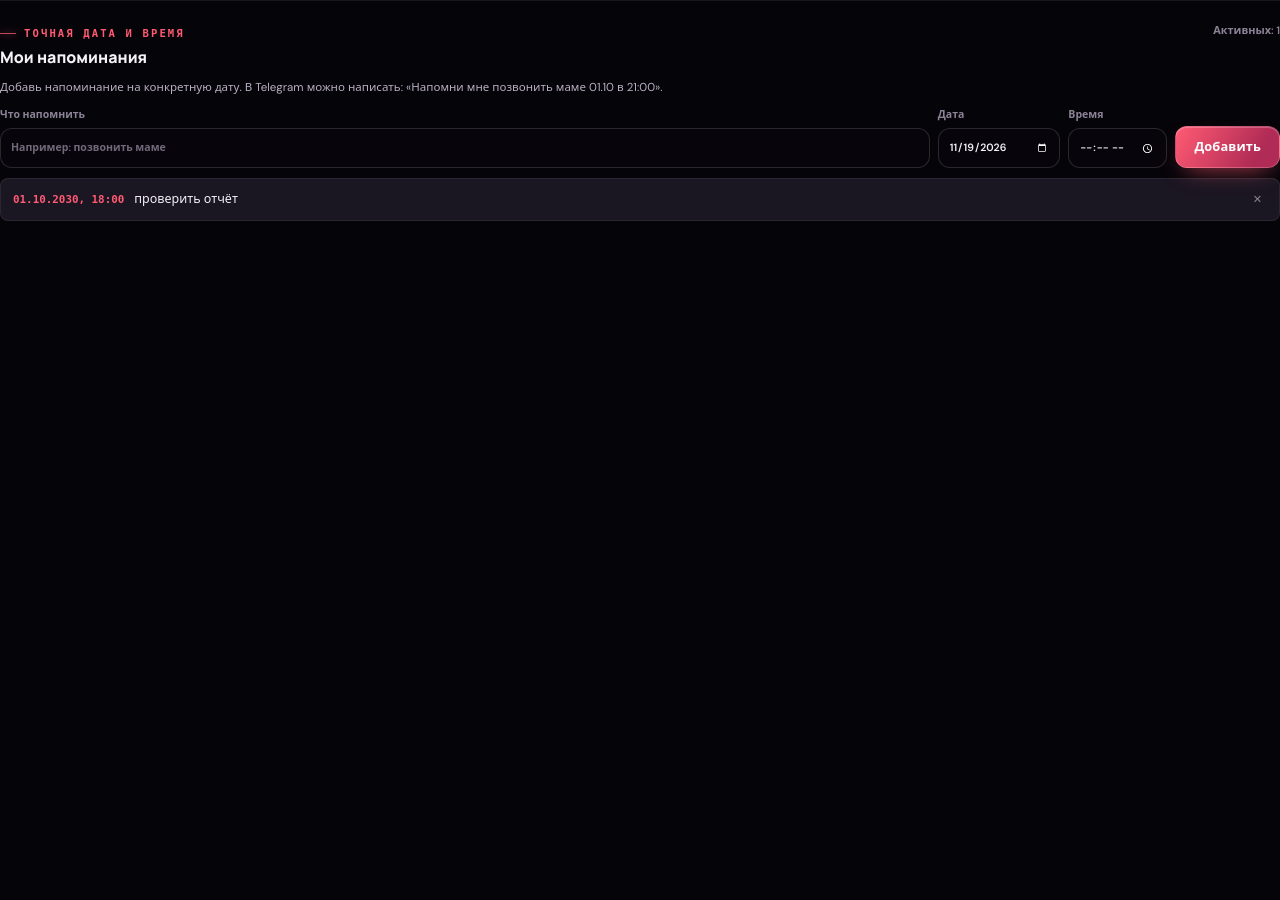
Test: RemindersPanel › удаляет напоминание после подтверждения
The width and height of the screenshot is (1280, 900).
Click the button named "Удалить напоминание": (1257, 200) [1248,188,1267,212]
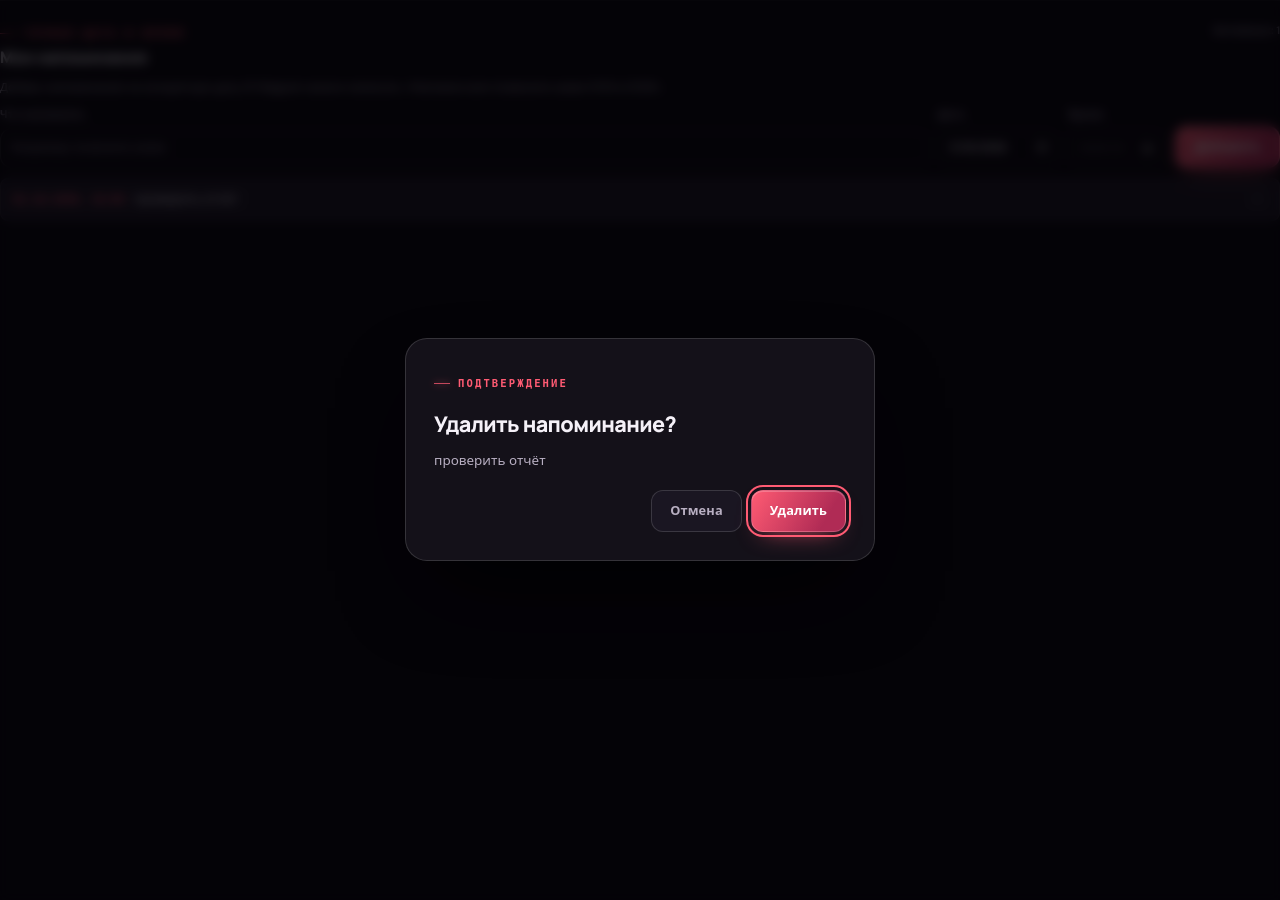
Click the button "Удалить": (798, 512) [751,491,846,533]
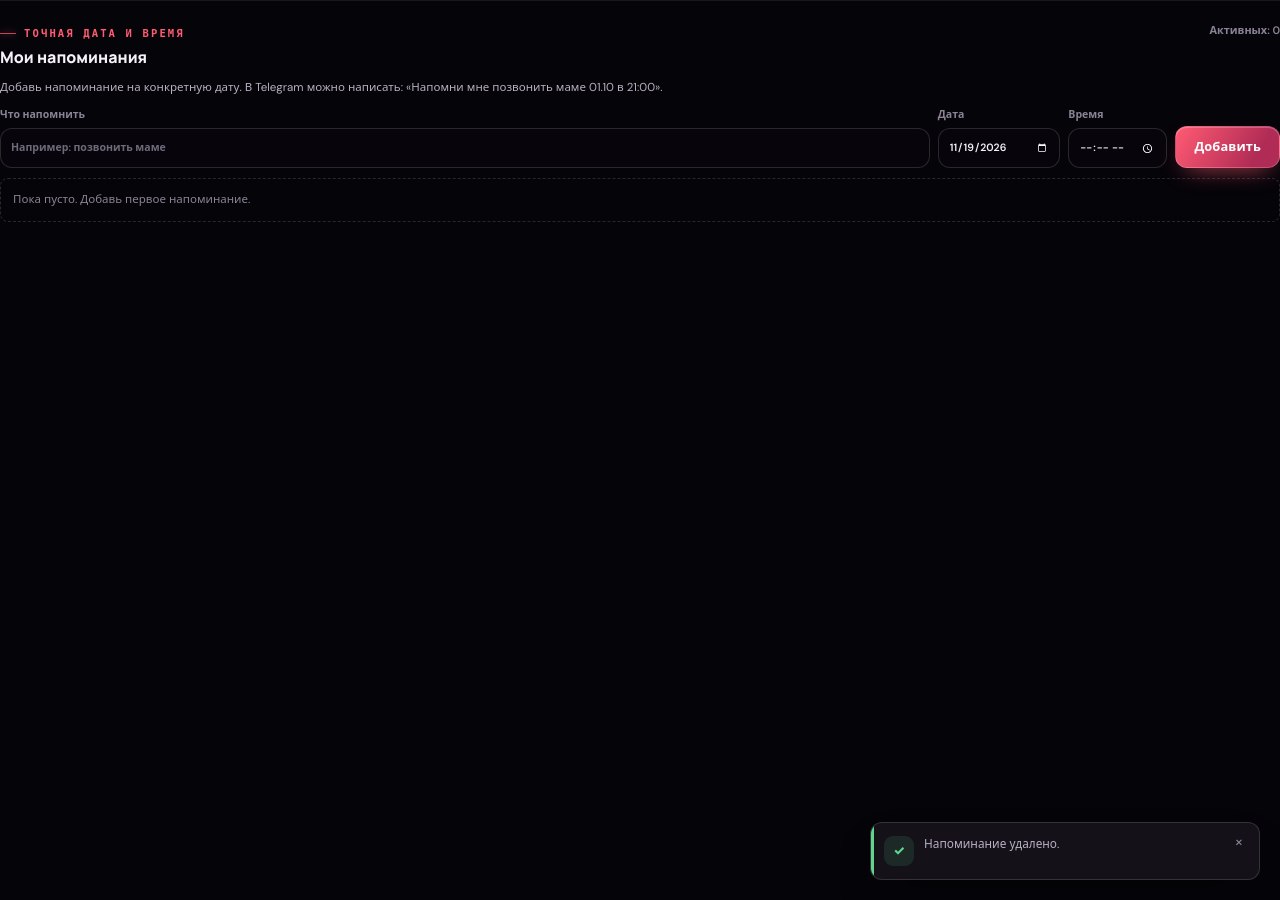
Check: the text "проверить отчёт" is gone
